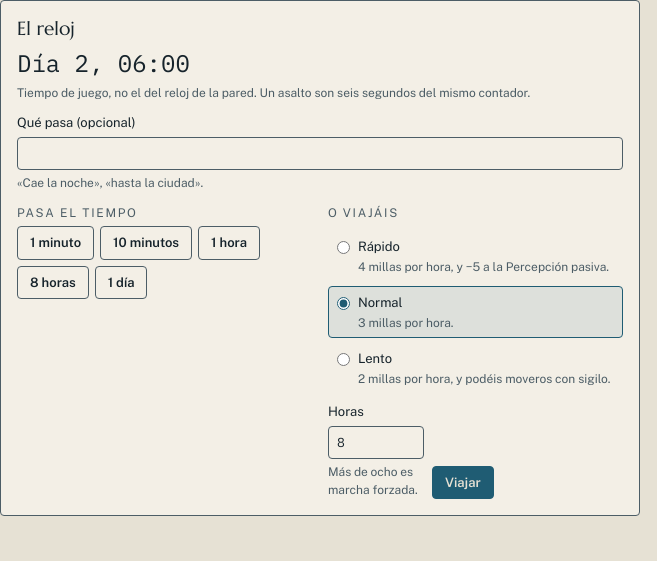
RelojDeCampana › un rechazo del servidor se pinta en línea, no en un aviso flotante
Click the button "1 hora".
click(229, 243)  # box [198, 226, 260, 260]
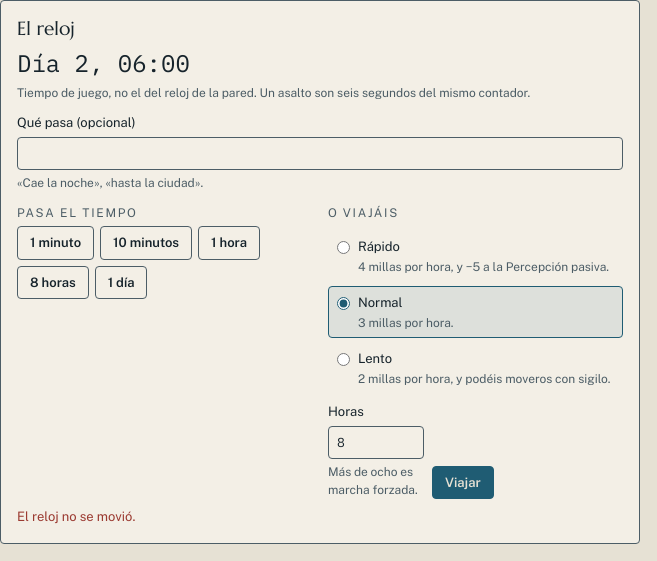
Check: the message reads "El reloj no se movió.", box [17, 509, 135, 524]
